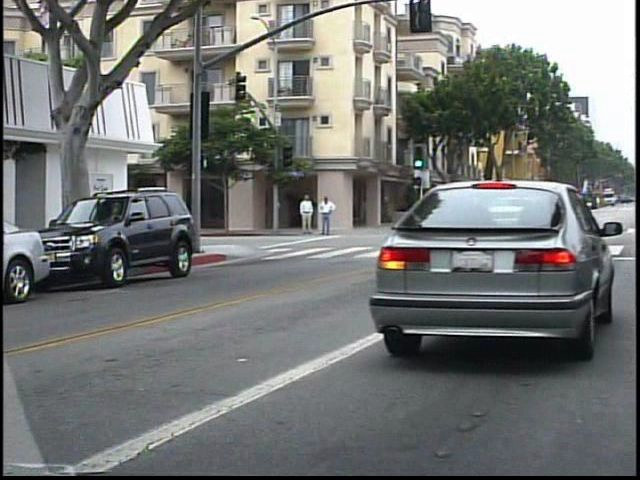person: (314, 193, 334, 239), (296, 192, 314, 237)
